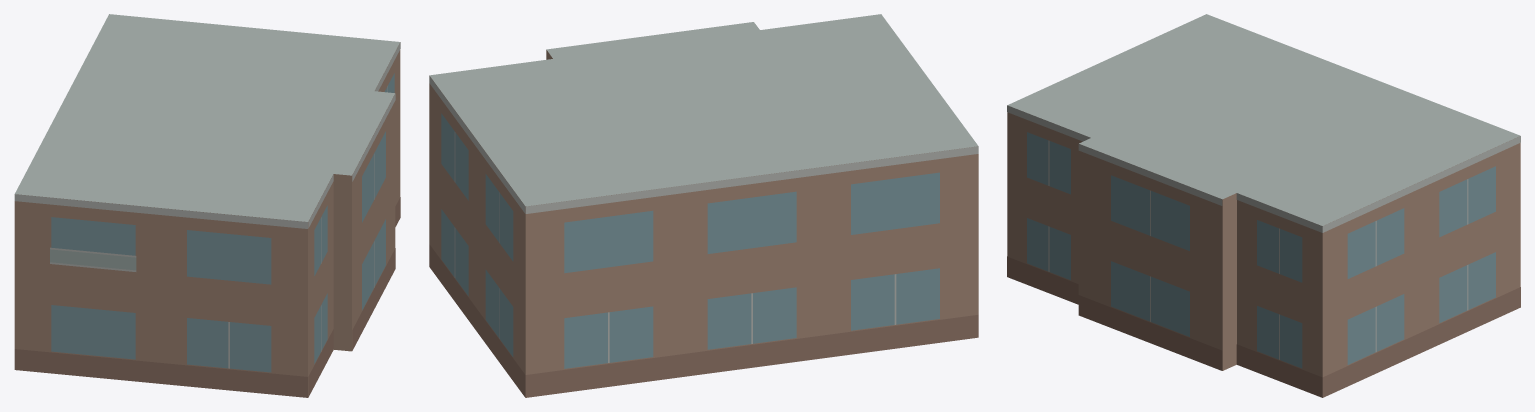
The model's file is survey-upis-32708097.glb.
3 views of the same model, side by side, from view 1: azimuth 30°, elevation 25°; view 2: azimuth 150°, elevation 25°; view 3: azimuth 270°, elevation 25° (orthographic). The views are drawn at different scales.
Parts seen in each view (by area): view 1: survey-upis-32708097.tmp; view 2: survey-upis-32708097.tmp; view 3: survey-upis-32708097.tmp.
Boxes of the visible parts, box(x1,y1,x2,y2) form: survey-upis-32708097.tmp: box(14, 14, 400, 397); survey-upis-32708097.tmp: box(429, 14, 978, 397); survey-upis-32708097.tmp: box(1007, 14, 1520, 397).
Bounding box in the file's own units: 16.17 × 6.1 × 16.54.
